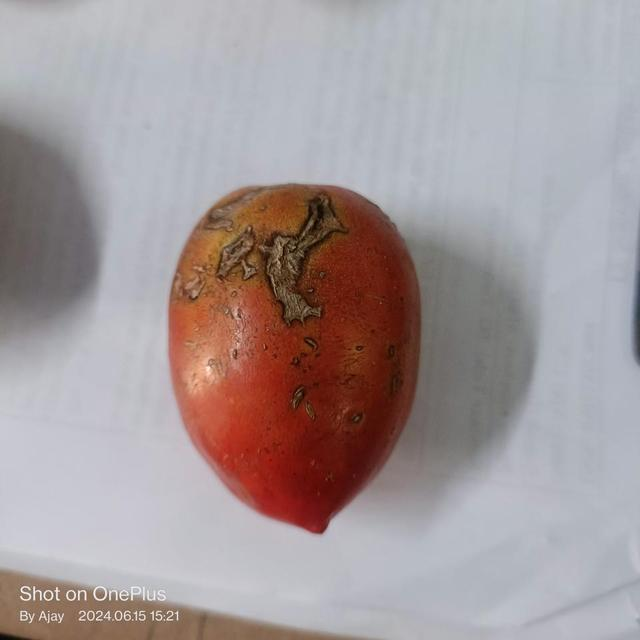Cracking Fruit: (77, 83, 270, 306)
